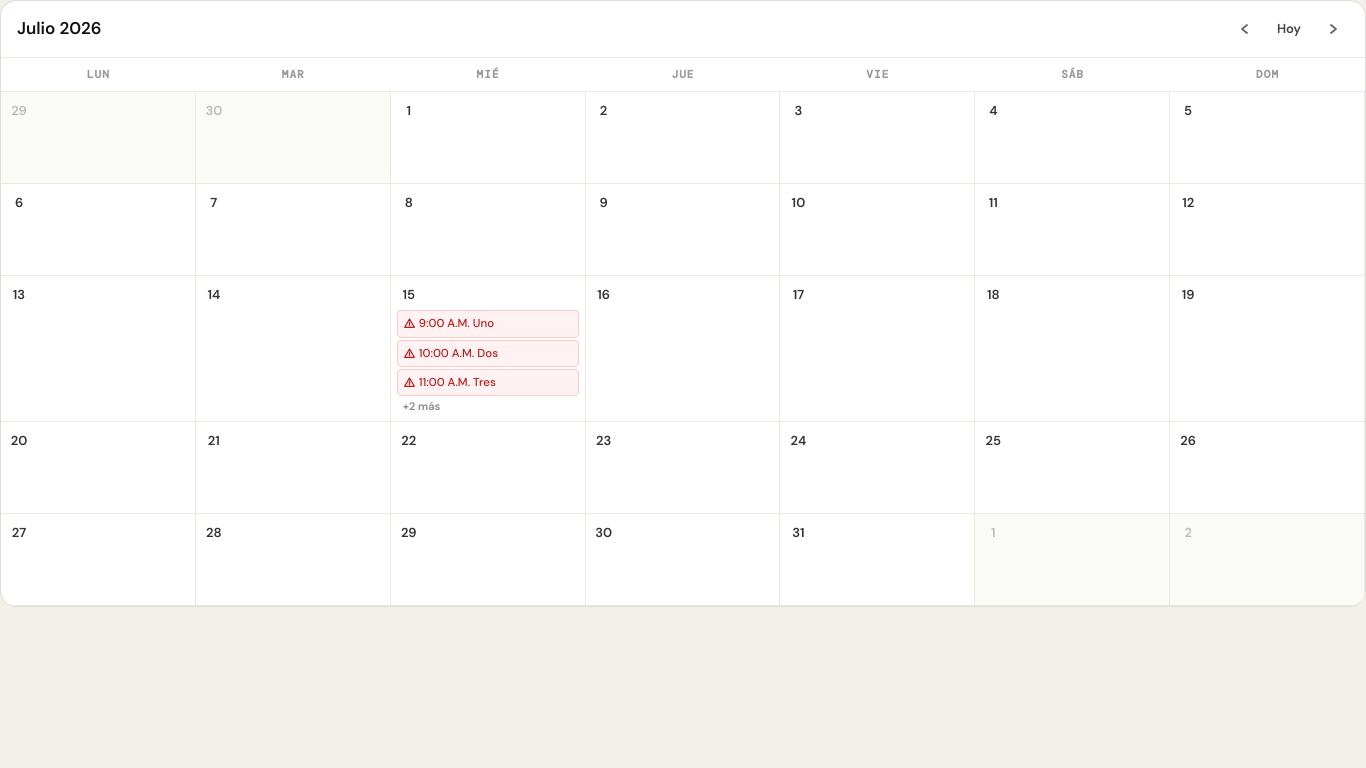
it: CalendarView — overflow del día ("+N más") › click en "+N más" abre la lista completa del día, incluidas las que no caben
Step 1. Click the button "+2 más" → [488, 406], box [397,398,579,414]
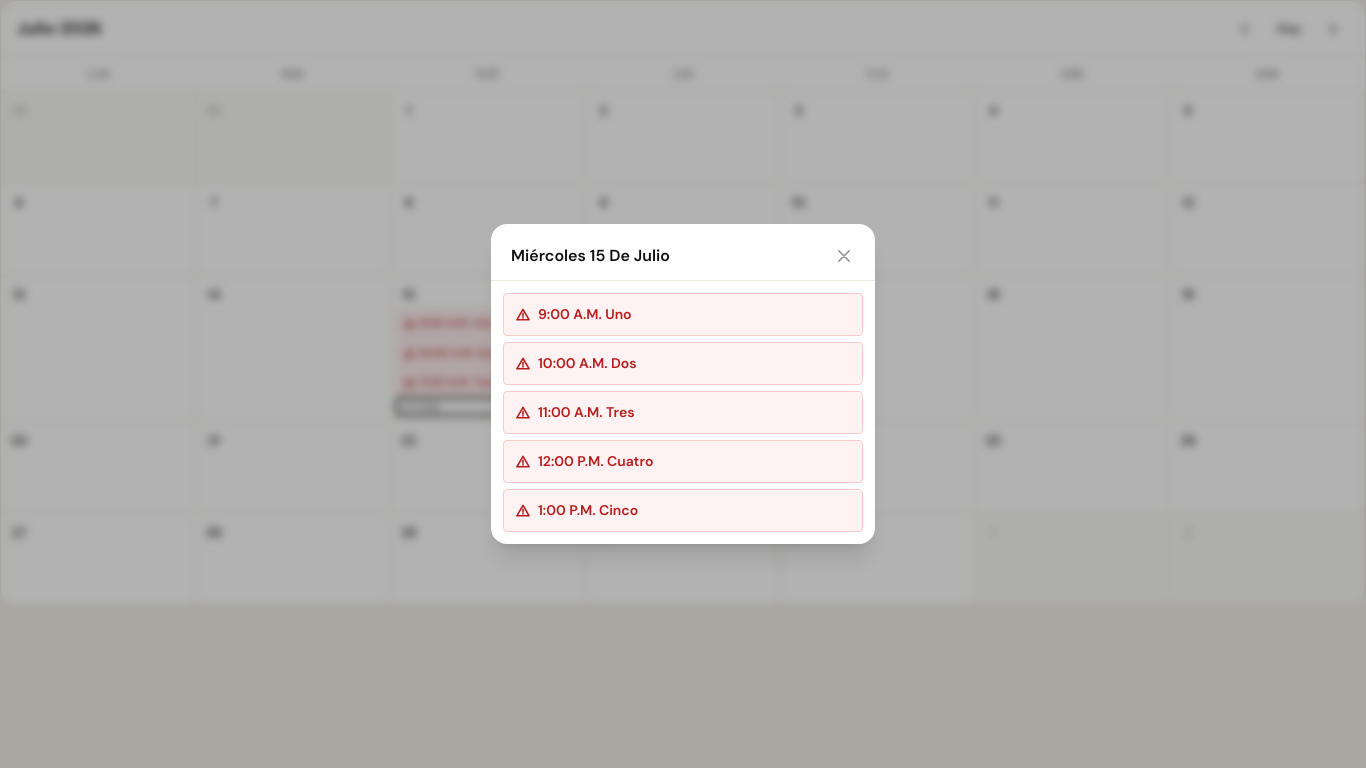
Check: the heading "miércoles 15 de julio" is shown, box [511,244,670,268]
Check: the text "12:00 P.M. Cuatro" is shown, box [538,452,653,470]
Check: the text "1:00 P.M. Cinco" is shown, box [538,501,638,519]
